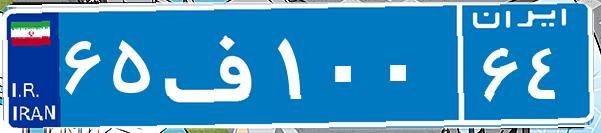0: (385, 28, 445, 110), (330, 28, 385, 110)
1: (273, 28, 330, 110)
4: (525, 38, 570, 115)
5: (110, 28, 158, 105)
6: (57, 26, 110, 107), (475, 38, 525, 113)
ف: (158, 15, 273, 115)
